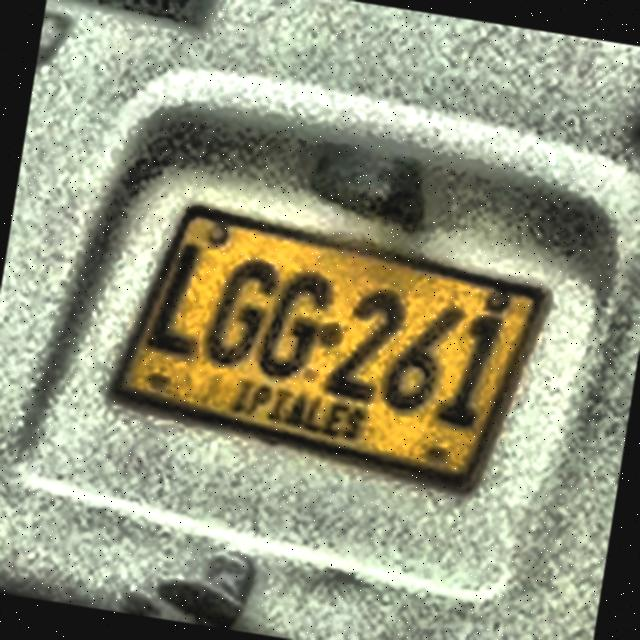1: (428, 311, 519, 436)
2: (317, 282, 416, 405)
6: (375, 299, 471, 417)
G: (244, 265, 344, 386), (198, 255, 291, 377)
L: (139, 238, 224, 366)
